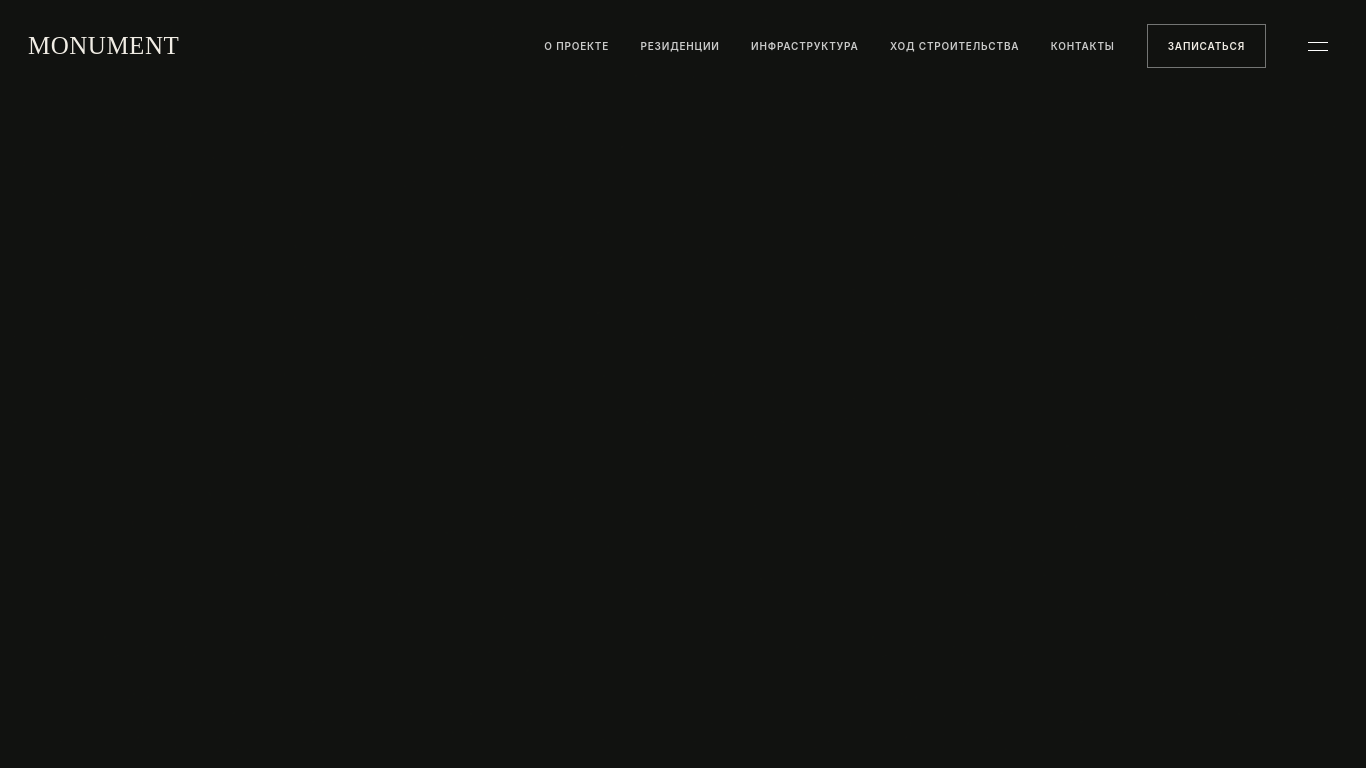
Test case: interactive MONUMENT components › opens the mobile navigation and closes it with Escape
Later steps or results of the test are not shown.
Click the button named "Открыть меню" at {"x": 1318, "y": 46}, box [1298, 24, 1338, 68]
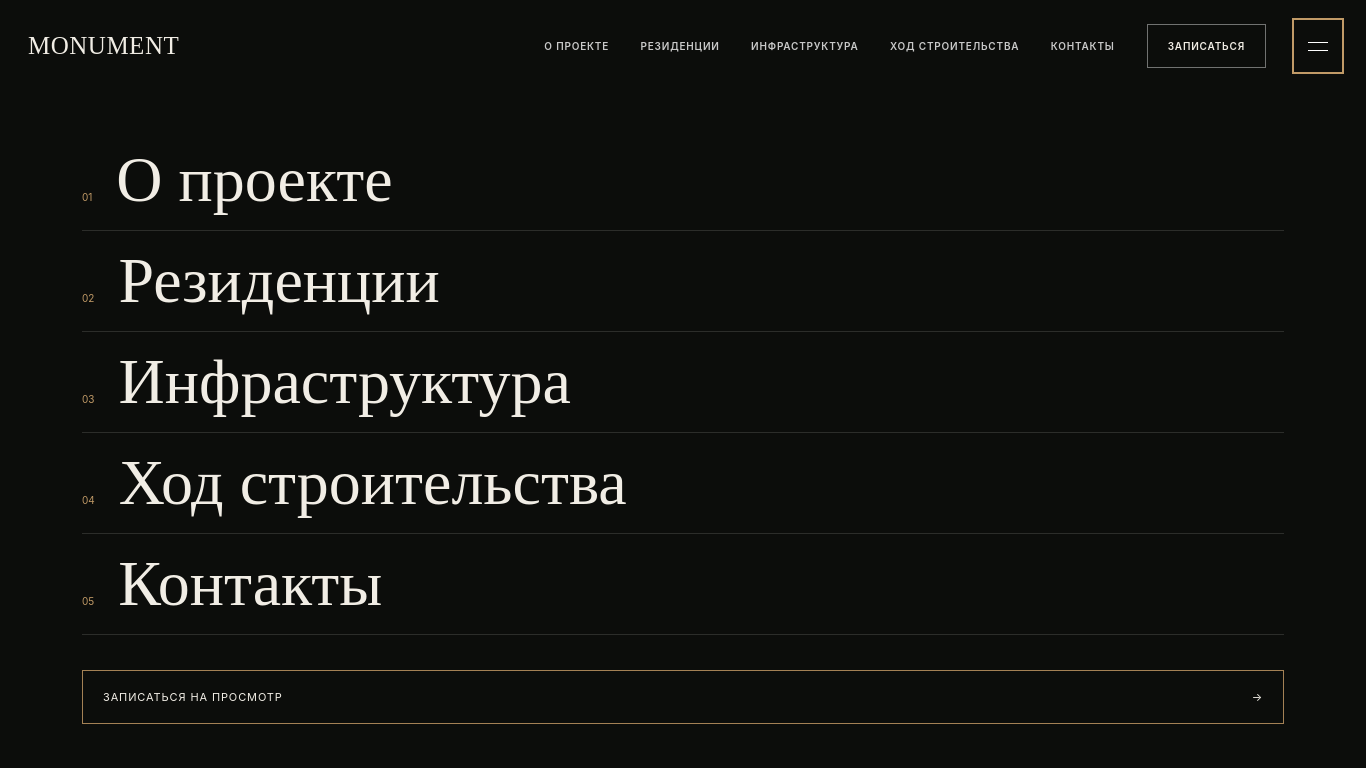
Check: the dialog named "Мобильная навигация" is shown
